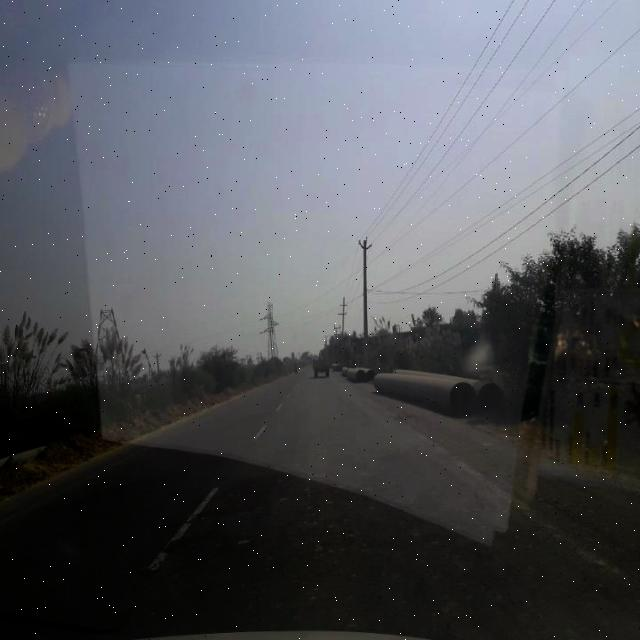D44: (144, 478, 222, 574)
